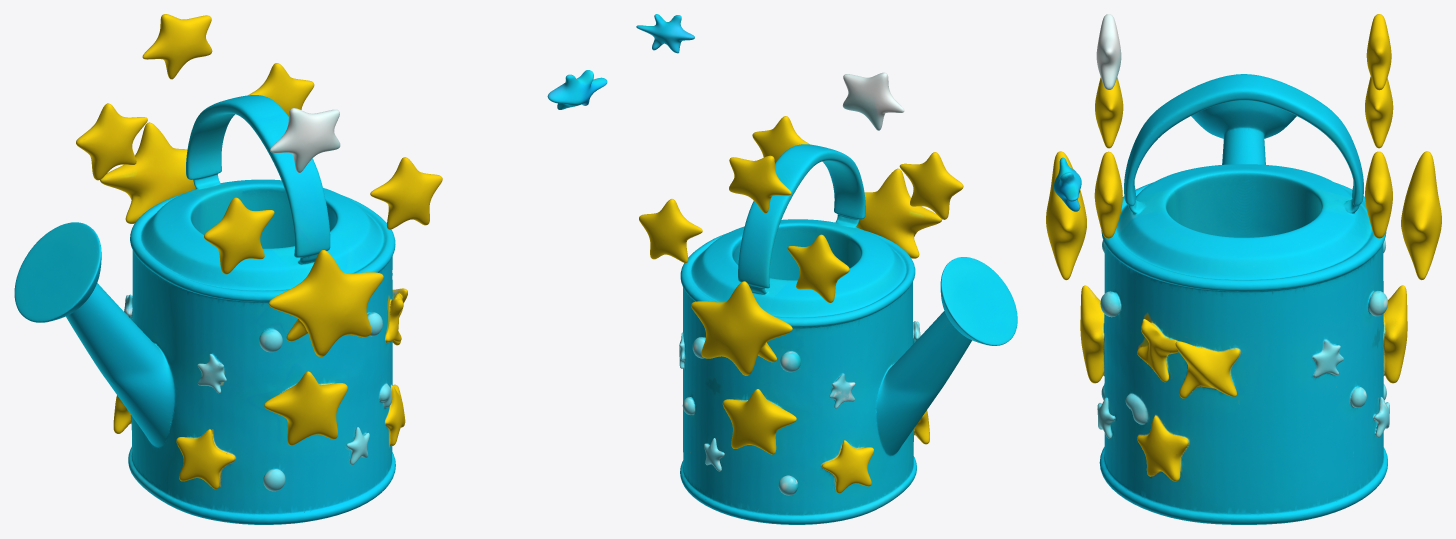
File: watering_can.glb
3 views of the same model, side by side, from view 1: azimuth 30°, elevation 25°; view 2: azimuth 150°, elevation 25°; view 3: azimuth 270°, elevation 25° (orthographic). The views are drawn at different scales.
Bounding box in the file's own units: 1.9 × 1.51 × 1.23.
1 material, 1 textured.
